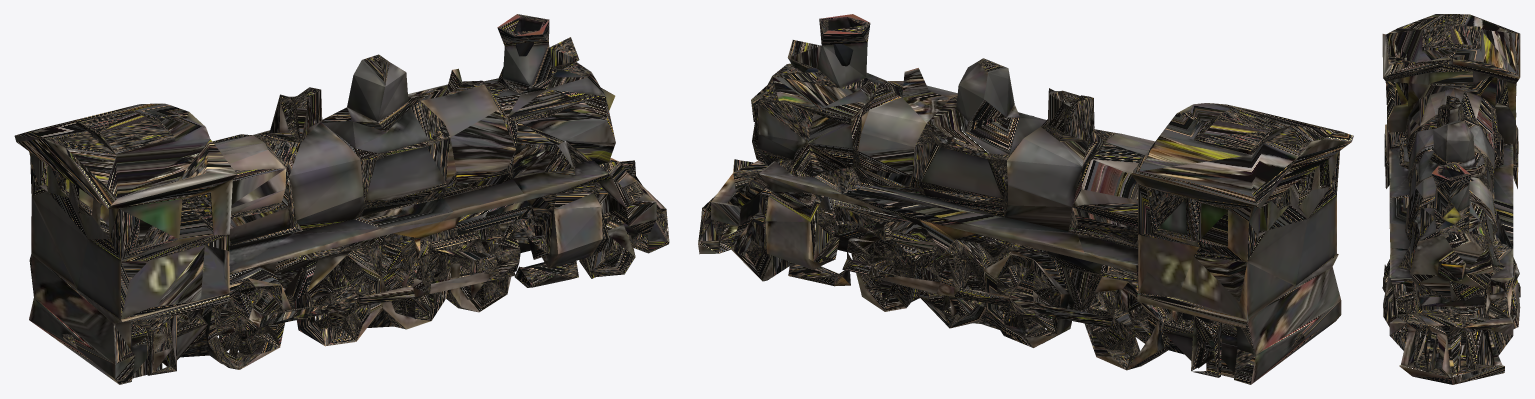
File: rail_loco.glb
3 renders of one model, left to right at view 1: azimuth 30°, elevation 25°; view 2: azimuth 150°, elevation 25°; view 3: azimuth 270°, elevation 25°, orthographic. The views are drawn at different scales.
Visible parts, largest first — view 1: normalize; view 2: normalize; view 3: normalize.
Part boxes in pixels (box(x1,y1,x2,y2)): normalize: box(14, 14, 669, 384); normalize: box(698, 14, 1353, 384); normalize: box(1382, 14, 1520, 384).
Bounding box in the file's own units: 1 × 0.3923 × 0.2742.
Materials: 1 (1 with a texture image).
